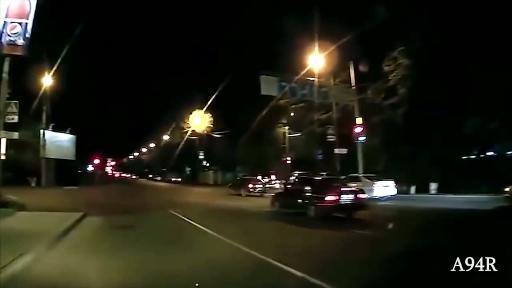Accident: (210, 136, 408, 226)
